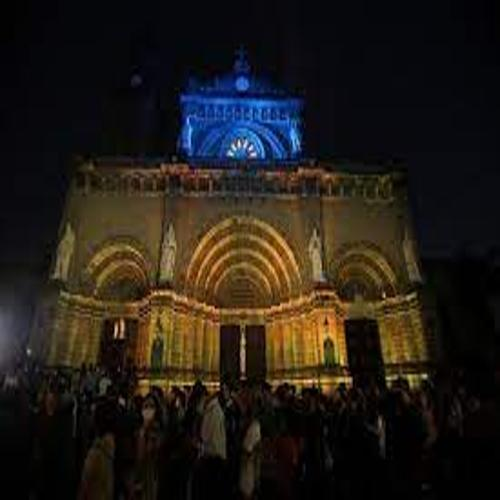Manila Cathedral Church: (30, 36, 458, 403)
